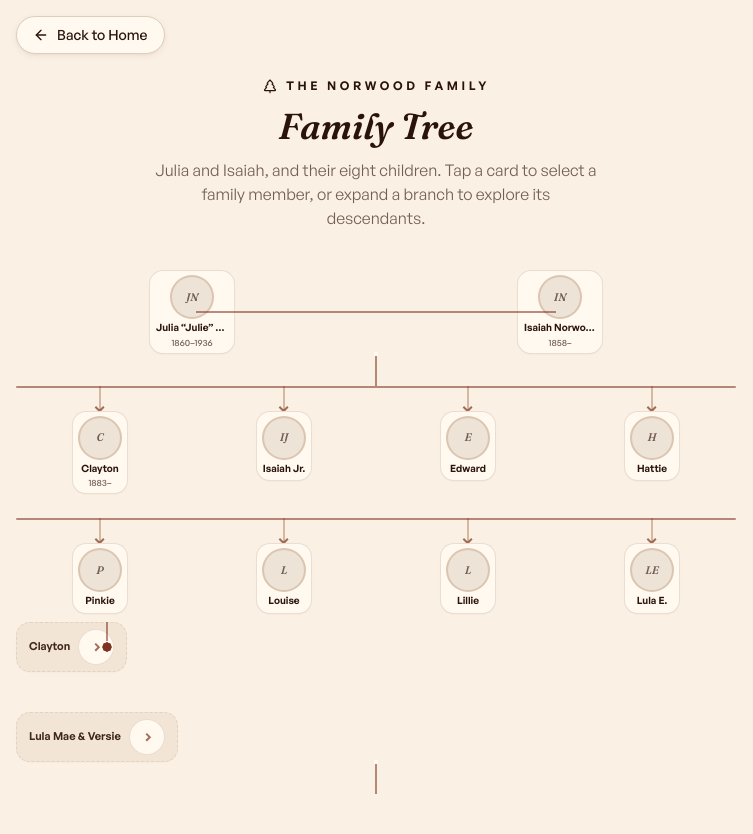
Test case: Profile card 'This is Me' characterization › reveals a 'This is Me' action when a card is selected
The image size is (753, 834).
# Select Julia's card.
Click the button "Julia “Julie” Norwood" at (192, 312), box [149,270,235,354]
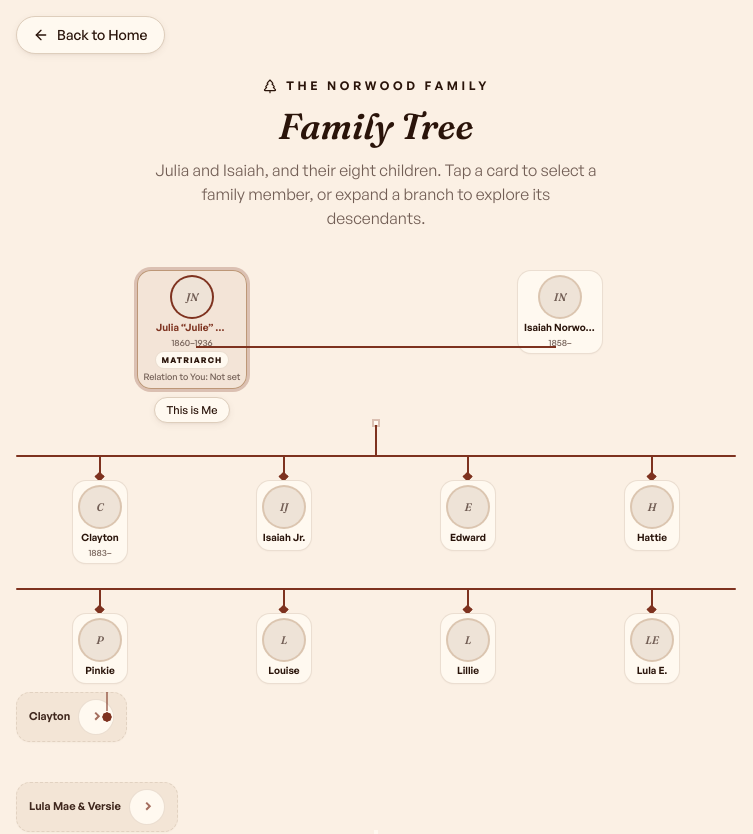
Now the button "This is Me" is shown, box [154,397,230,423]
